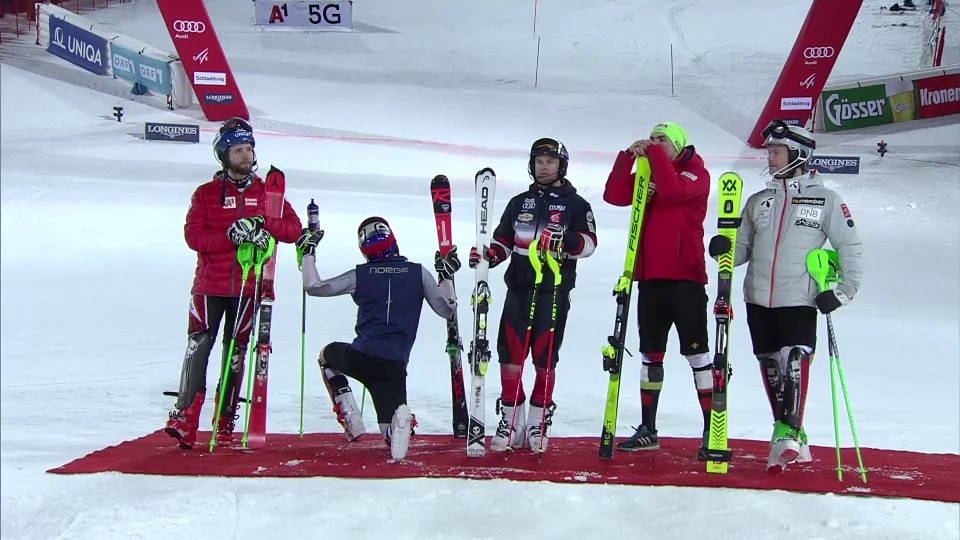5g: (308, 1, 342, 28)
a1: (268, 3, 292, 27)
audi: (171, 19, 209, 38), (802, 45, 838, 64)
goesser: (825, 87, 898, 131)
kronenzeitung: (919, 74, 959, 117)
longines: (807, 157, 861, 176), (143, 125, 203, 142)
uniqa: (49, 23, 105, 73)
